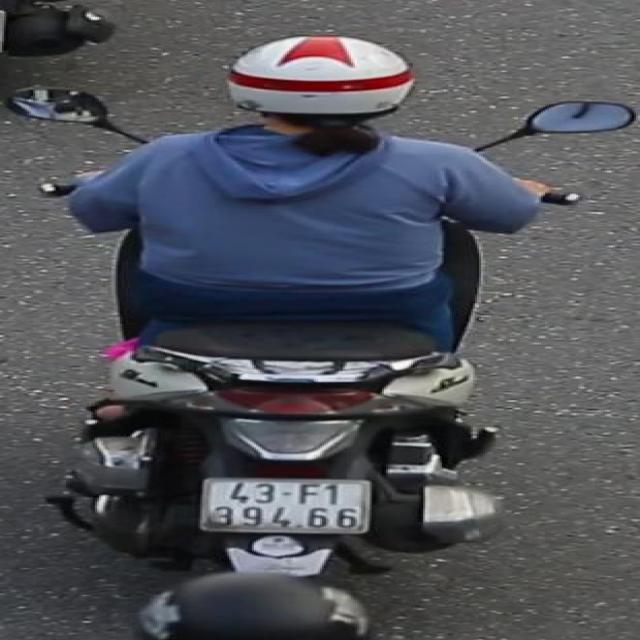LP: (194, 470, 376, 538)
helmet: (219, 28, 419, 144)
